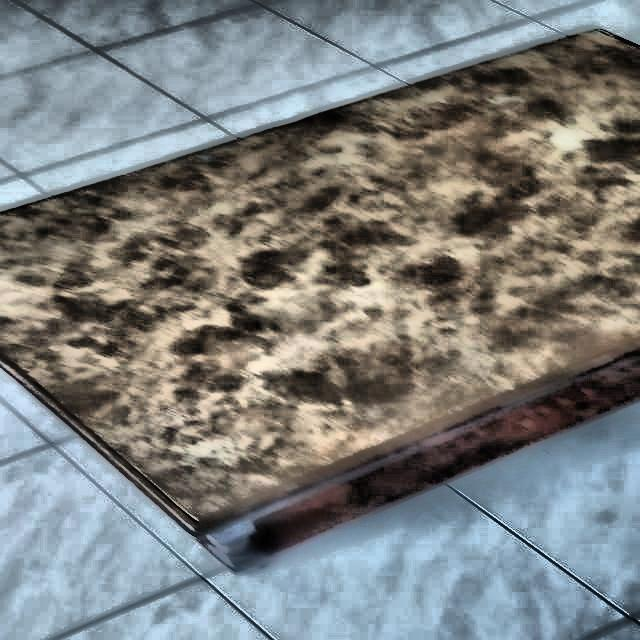mesa: (0, 24, 640, 572)
